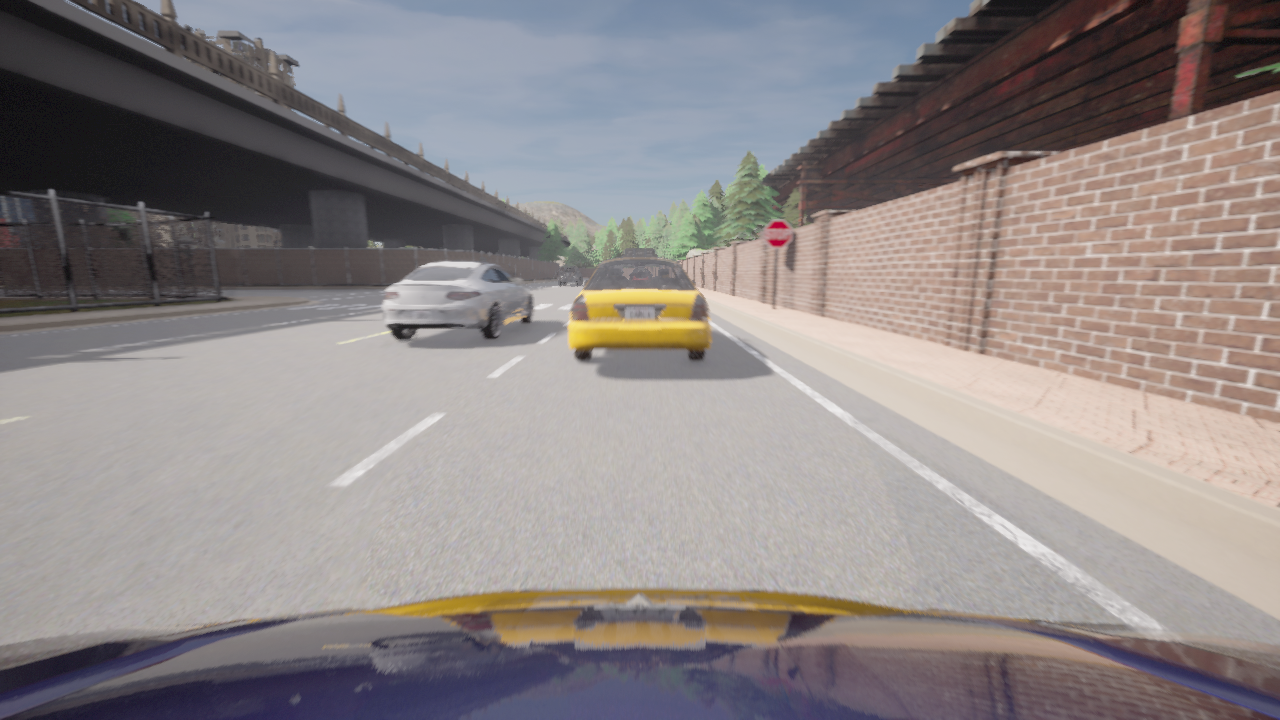cyclist: (0, 588, 1279, 719), (569, 249, 710, 360), (383, 261, 533, 340), (558, 267, 581, 285)
